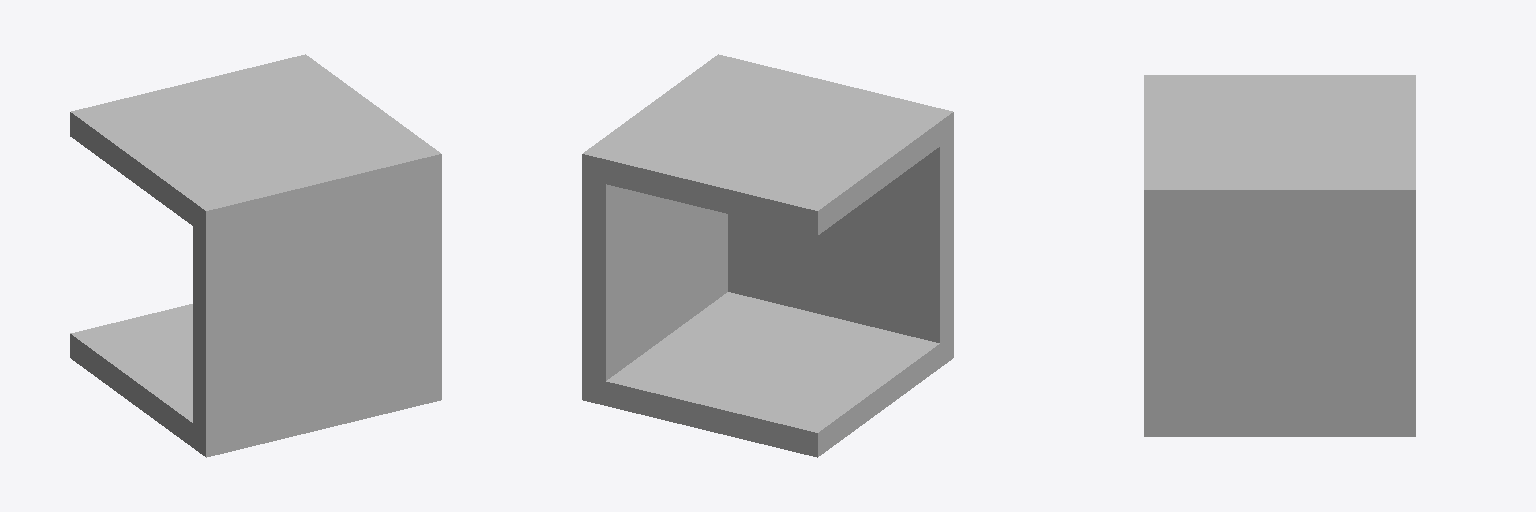
The model's file is pcity_nodes_shelf_1_left.obj.
The picture shows the model from 3 angles: view 1: azimuth 30°, elevation 25°; view 2: azimuth 150°, elevation 25°; view 3: azimuth 270°, elevation 25°; orthographic projection.
Visible parts, largest first — view 1: Shelf_Left; view 2: Shelf_Left; view 3: Shelf_Left.
Boxes of the visible parts, <box> form: Shelf_Left: <box>70,54,441,457</box>; Shelf_Left: <box>582,54,953,457</box>; Shelf_Left: <box>1144,75,1415,436</box>.
Size of the model in its own units: 1 by 1 by 1.